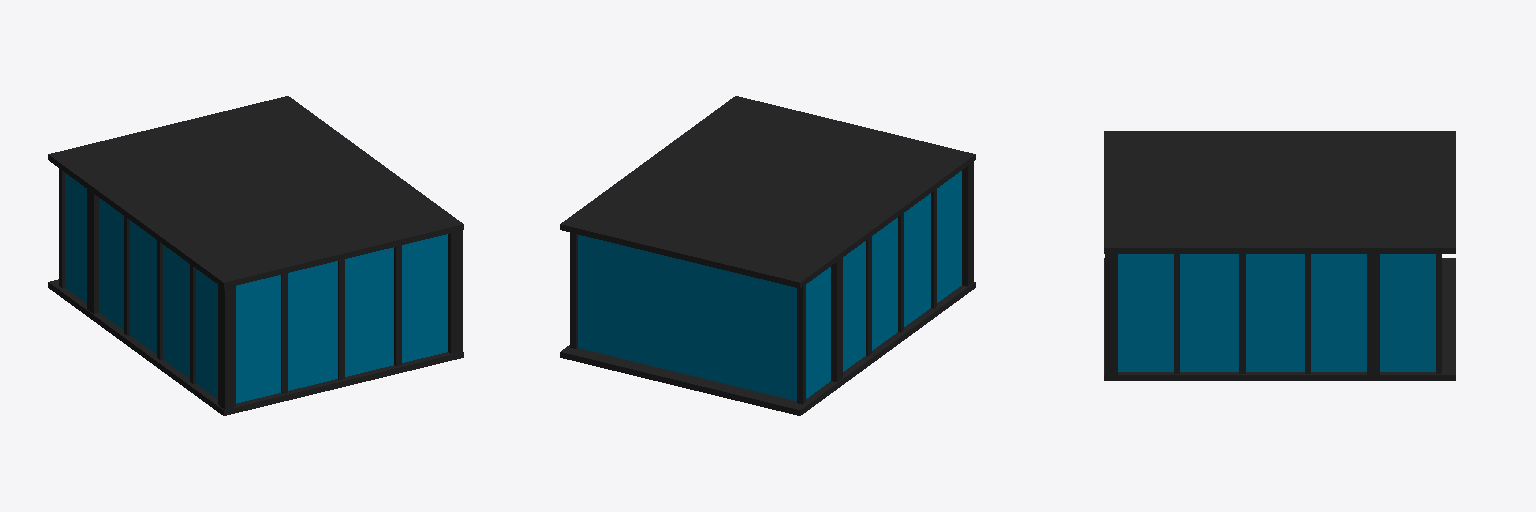
The model's file is office.obj.
The picture shows the model from 3 angles: view 1: azimuth 30°, elevation 25°; view 2: azimuth 150°, elevation 25°; view 3: azimuth 270°, elevation 25°; orthographic projection.
Parts seen in each view (by area): view 1: Cube_Cube.004, room_Cube.003; view 2: Cube_Cube.004, room_Cube.003; view 3: Cube_Cube.004, room_Cube.003.
Boxes of the visible parts, box(x1,y1,x2,y2) form: Cube_Cube.004: box(48, 96, 463, 415); room_Cube.003: box(65, 173, 447, 403); Cube_Cube.004: box(560, 96, 975, 415); room_Cube.003: box(578, 171, 961, 400); Cube_Cube.004: box(1104, 131, 1455, 380); room_Cube.003: box(1118, 254, 1435, 371).
Bounding box in the file's own units: 8.47 × 4.5 × 10.72.